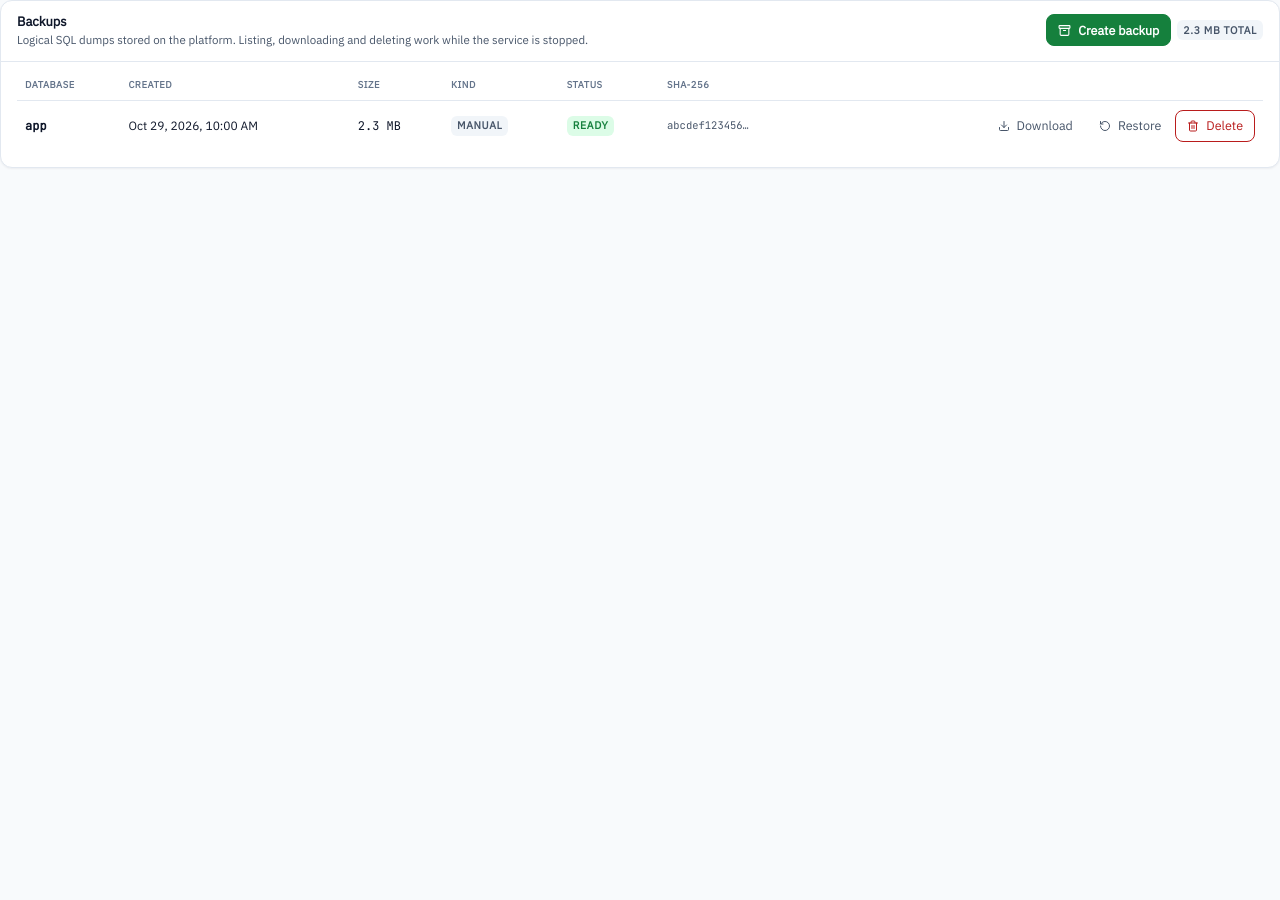
Scenario: BackupsTab › requires linked sites to be stopped before overwriting
Click the button with aria-label "restore app backup".
click(1130, 126)  # box [1087,110,1173,142]
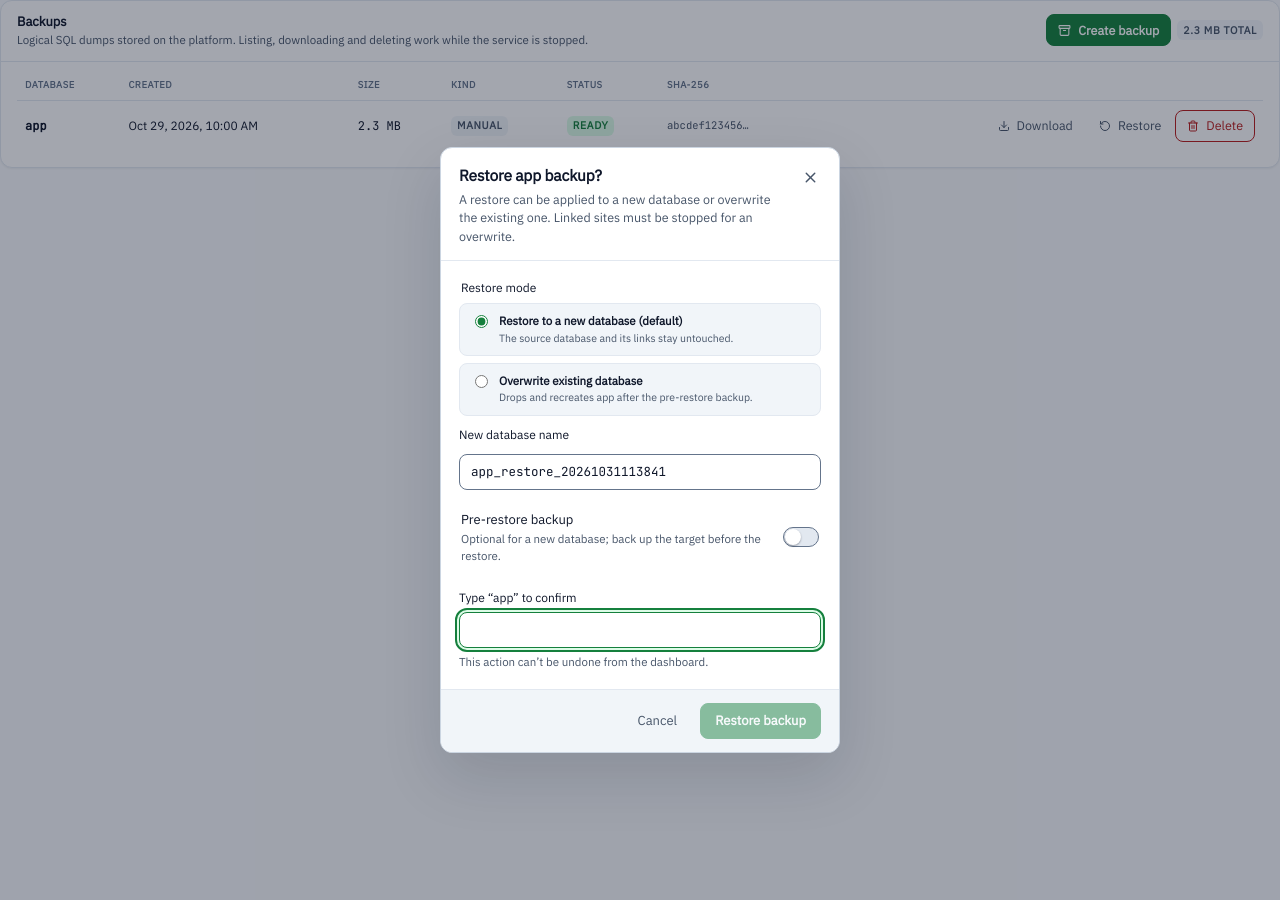
Click the radio button labelled "Overwrite existing database".
click(482, 381)  # box [475,375,488,388]
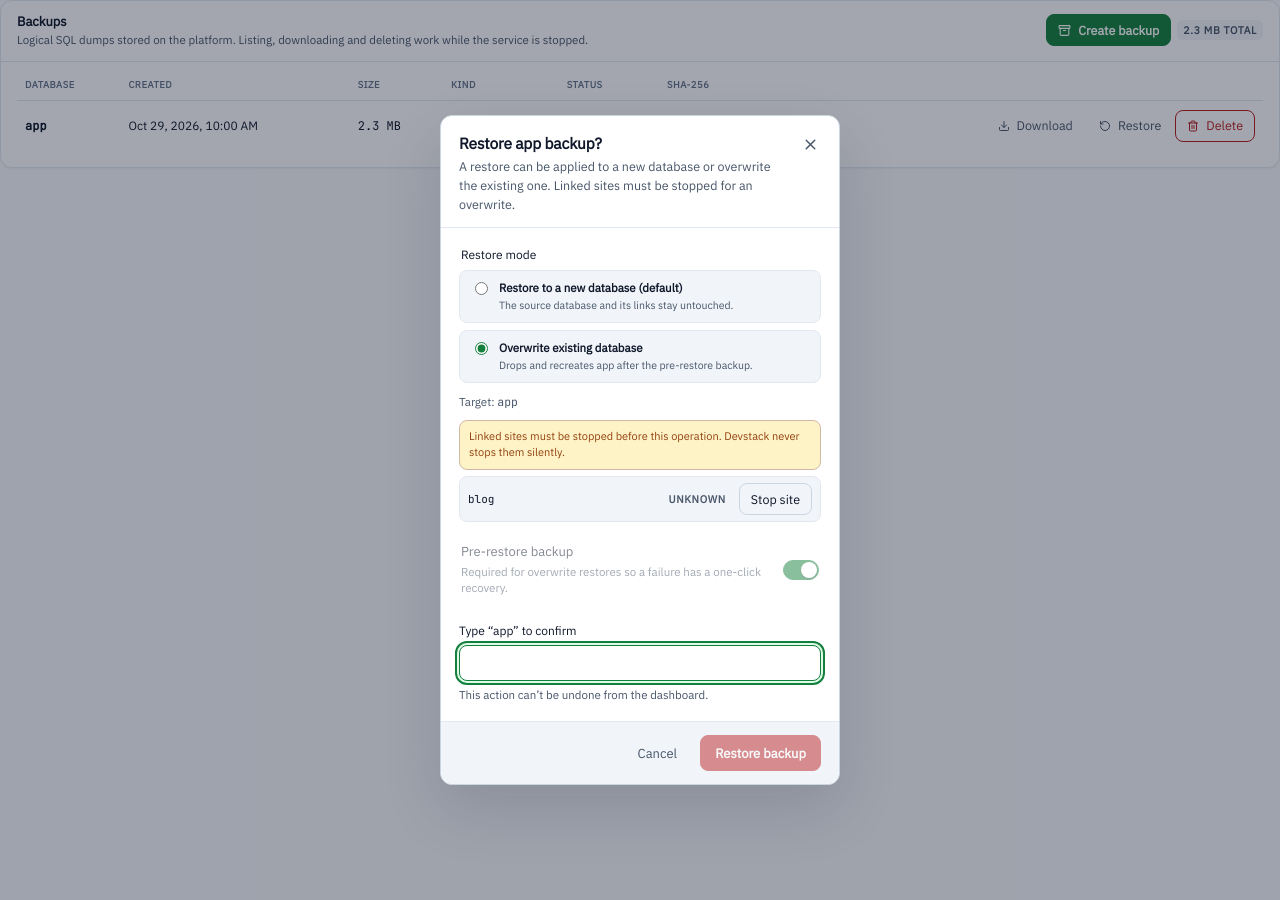
Expected: the text "blog" is shown, [468,492,494,506]
Type "app" into the field labelled "Type “app” to confirm".
click(640, 663); type("app")  # box [459,645,821,681]
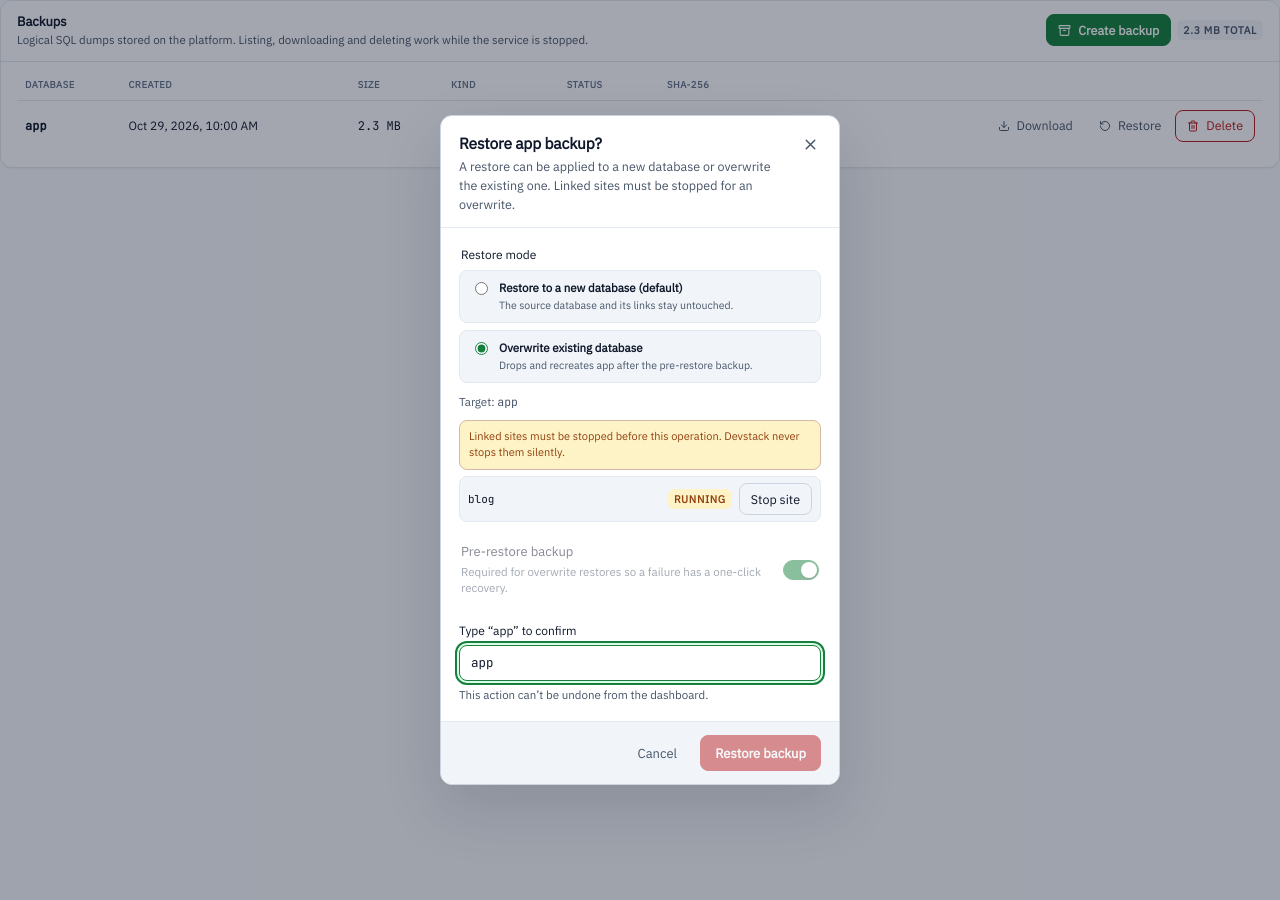
Expected: the button "Restore backup" is disabled, [700,735,821,771]
Click the button with aria-label "Stop site blog".
click(775, 499)  # box [739,483,812,515]
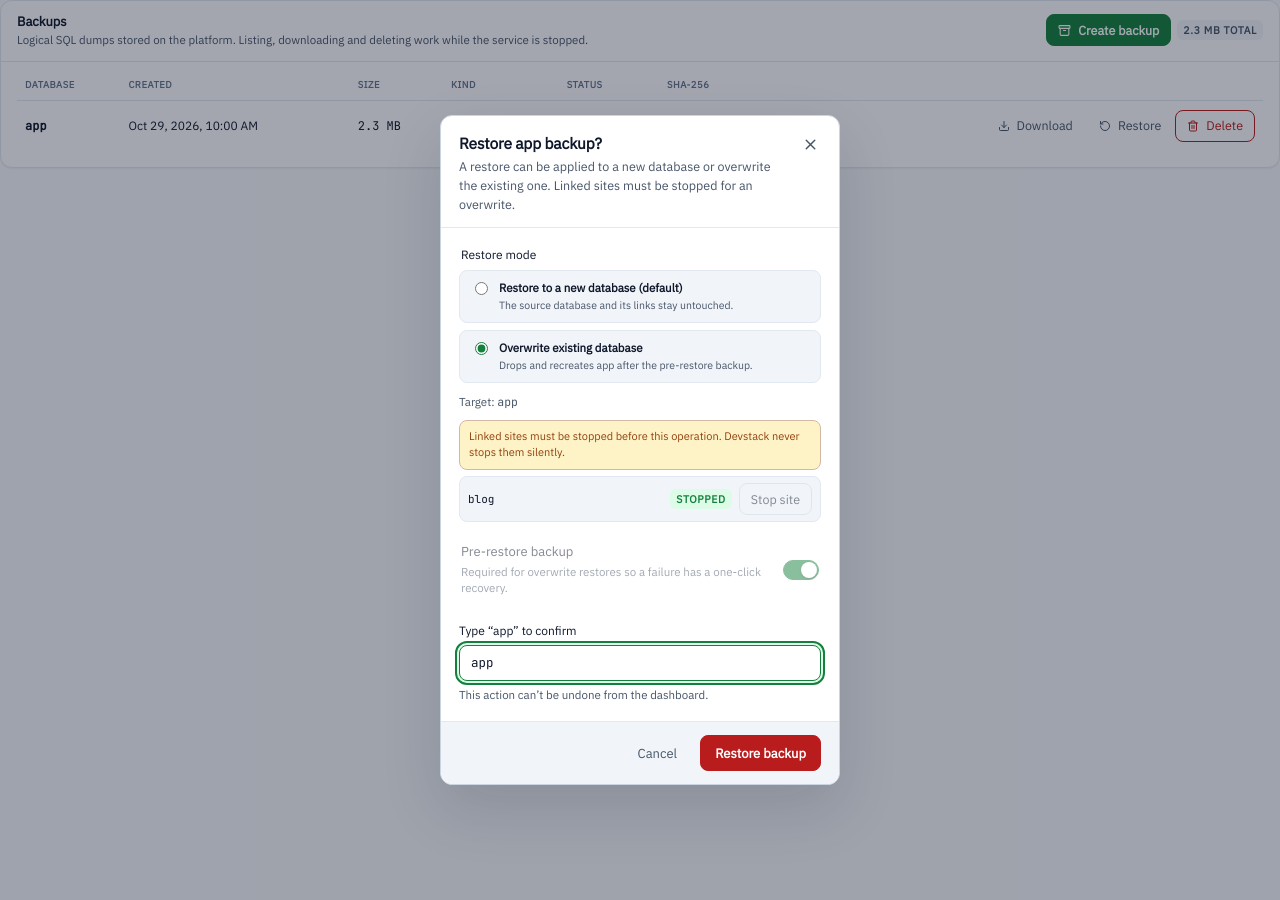
Expected: the button "Restore backup" is enabled, [700,735,821,771]
